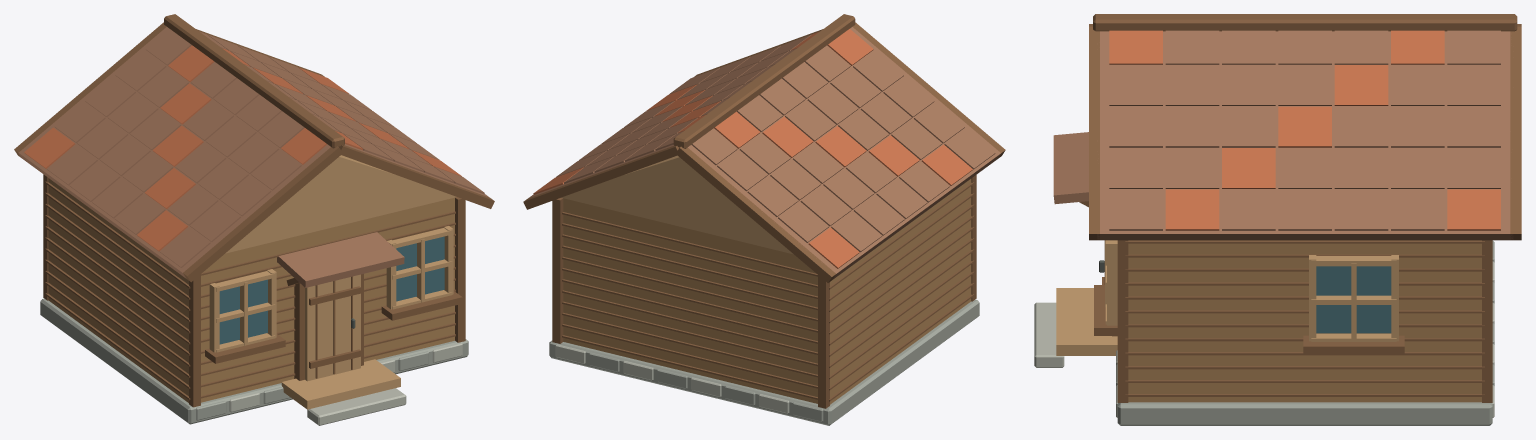
Rendered from farm_house_starter.glb.
The picture shows the model from 3 angles, left to right: view 1: azimuth 30°, elevation 25°; view 2: azimuth 150°, elevation 25°; view 3: azimuth 270°, elevation 25°; orthographic projection. The views are drawn at different scales.
Parts seen in each view (by area): view 1: House closed walls, Closed timber gables, Ground foundation, Closed welcoming door, Solid clay roof slope, Door rain awning, Roof ridge cap, Small covered doorstep, Gable oak fascia, Inset blue window, Broad entrance step, Inset blue window.001 (+68 smaller); view 2: House closed walls, Closed timber gables, Ground foundation, Solid clay roof slope, Roof ridge cap, Gable oak fascia.002, Gable oak fascia.003, Corner timber.003, Corner timber.001, Gable oak fascia, Clay tile course.031, Clay tile course.016 (+57 smaller); view 3: House closed walls, Solid clay roof slope.001, Ground foundation, Roof ridge cap, Inset blue window.002, Small covered doorstep, Gable oak fascia.003, Door rain awning, Gable oak fascia.001, Clay tile course.064, Clay tile course.067, Clay tile course.050 (+56 smaller).
Boxes of the visible parts, <box> form: House closed walls: <box>48,178,454,402</box>; Closed timber gables: <box>225,155,456,253</box>; Ground foundation: <box>40,298,468,424</box>; Closed welcoming door: <box>305,274,360,381</box>; Solid clay roof slope: <box>18,27,330,278</box>; Door rain awning: <box>277,232,404,287</box>; Roof ridge cap: <box>164,14,344,148</box>; Small covered doorstep: <box>281,359,400,409</box>; Gable oak fascia: <box>183,146,342,282</box>; Inset blue window: <box>219,279,267,344</box>; Broad entrance step: <box>307,388,406,425</box>; Inset blue window.001: <box>396,236,444,301</box>; House closed walls: <box>563,179,971,404</box>; Closed timber gables: <box>561,155,793,254</box>; Ground foundation: <box>549,299,979,425</box>; Solid clay roof slope: <box>688,27,1001,279</box>; Roof ridge cap: <box>673,14,855,148</box>; Gable oak fascia.002: <box>676,146,835,282</box>; Gable oak fascia.003: <box>523,146,678,209</box>; Corner timber.003: <box>552,197,563,343</box>; Corner timber.001: <box>818,275,829,408</box>; Gable oak fascia: <box>852,22,1005,158</box>; Clay tile course.031: <box>876,177,927,219</box>; Clay tile course.016: <box>838,109,889,150</box>; House closed walls: <box>1128,240,1481,402</box>; Solid clay roof slope.001: <box>1097,31,1513,240</box>; Ground foundation: <box>1117,402,1492,425</box>; Roof ridge cap: <box>1093,14,1517,31</box>; Inset blue window.002: <box>1316,266,1391,333</box>; Small covered doorstep: <box>1056,288,1117,355</box>; Gable oak fascia.003: <box>1510,26,1521,240</box>; Door rain awning: <box>1053,132,1088,204</box>; Gable oak fascia.001: <box>1089,26,1099,240</box>; Clay tile course.064: <box>1165,189,1219,230</box>; Clay tile course.067: <box>1334,189,1388,230</box>; Clay tile course.050: <box>1165,106,1219,147</box>.
Bounding box in the file's own units: 5.95 × 4.78 × 6.5.
